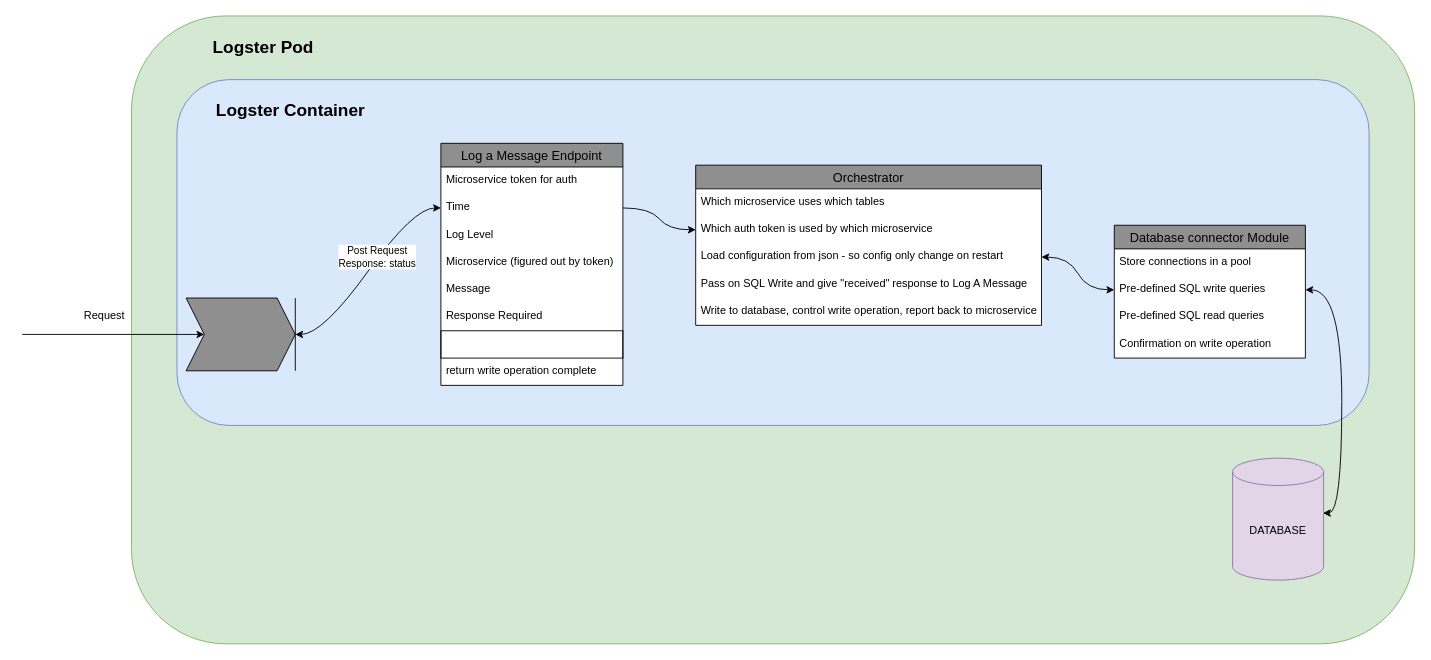
The diagram is 1431 pixels wide and 660 high, and some of its shapes have lost their labels. Each missing label, with the centre of its shape:
NodeJS Express magic: [240,334]
returns receive confirmation: [531,344]
